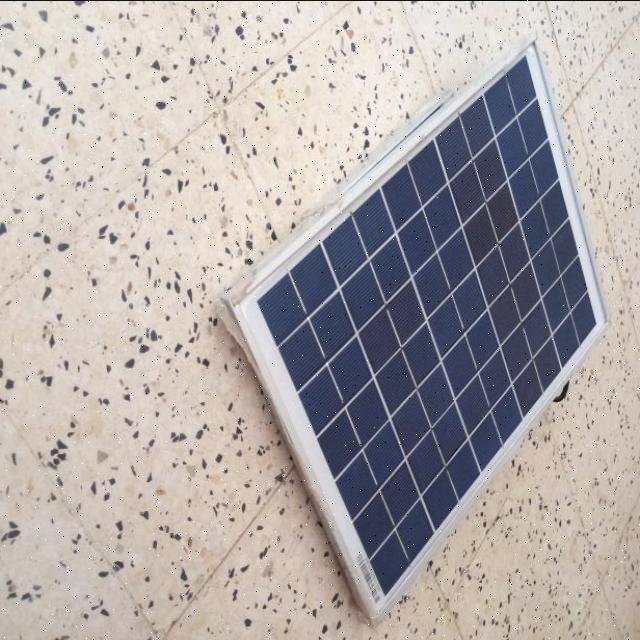Normal Solar Panel: (228, 29, 606, 621)
